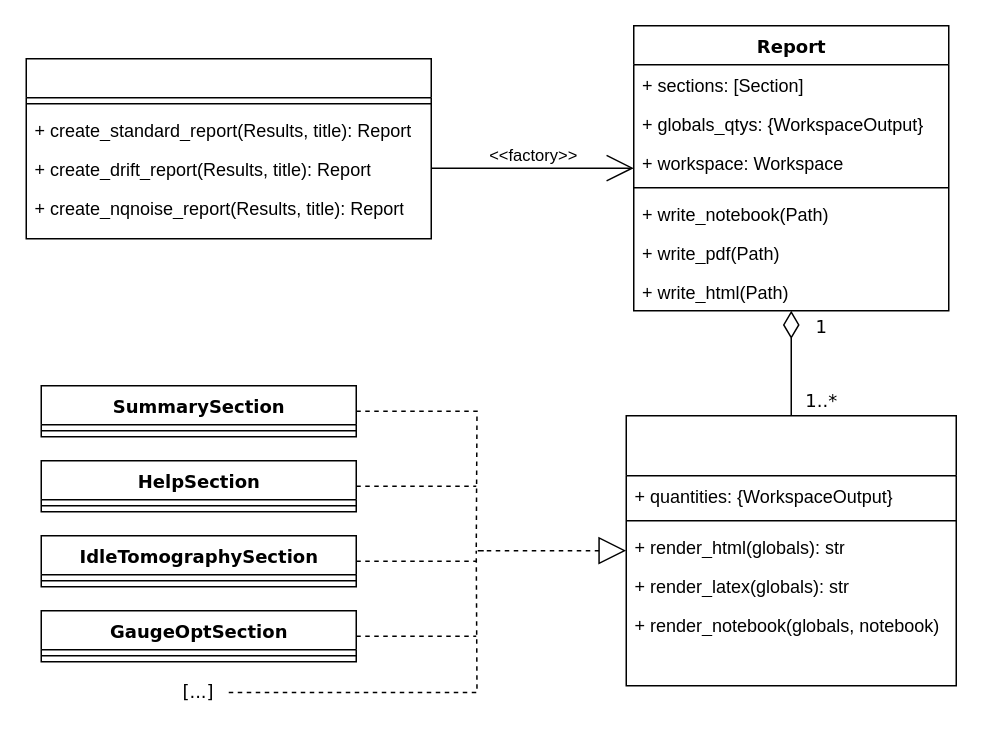
This 983x734 diagram has some shape labels left out. Each missing label, with the box of its shape:
<<Interface>> Section: (625, 414, 956, 686)
ReportFactory: (25, 57, 431, 239)
